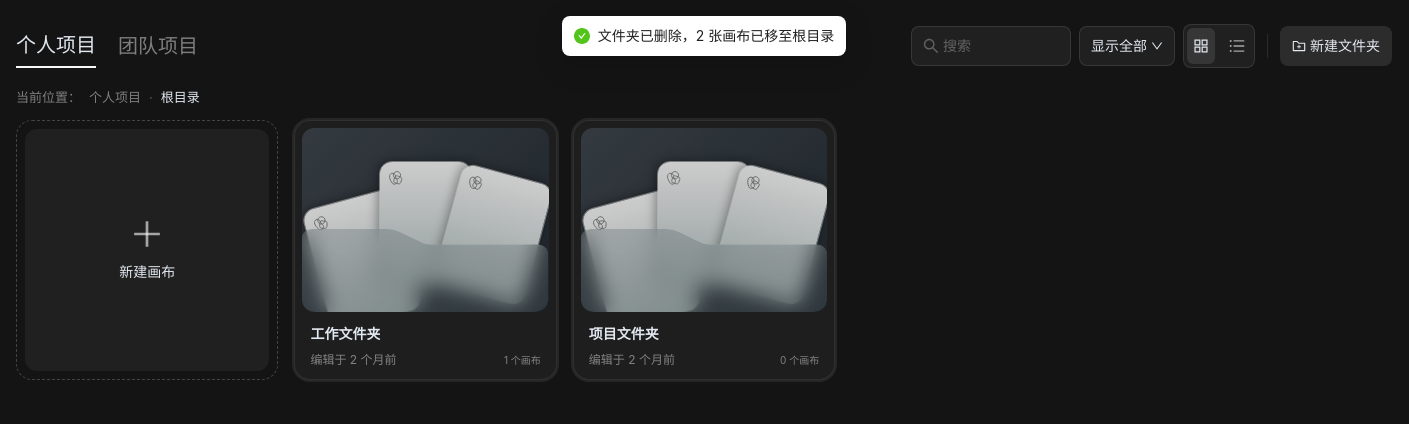
Test: WorkspacePage › list 视图渲染行
Click the button named "List view". click: (1237, 46)
box: x1=1223 y1=28 x2=1251 y2=64
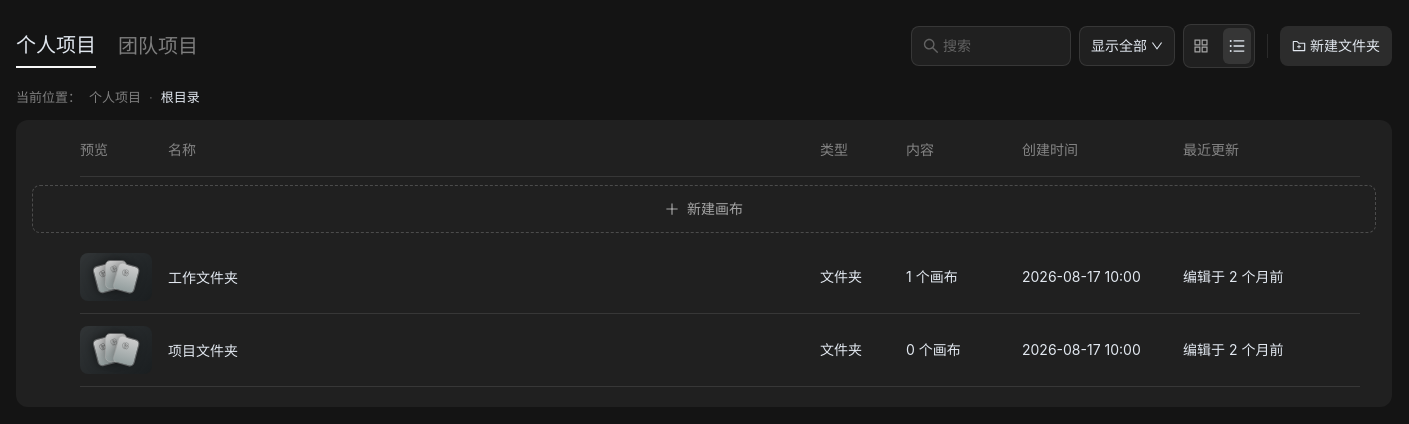
Expected: the list with test id "workspace-list" is shown, x1=32 y1=176 x2=1376 y2=386
